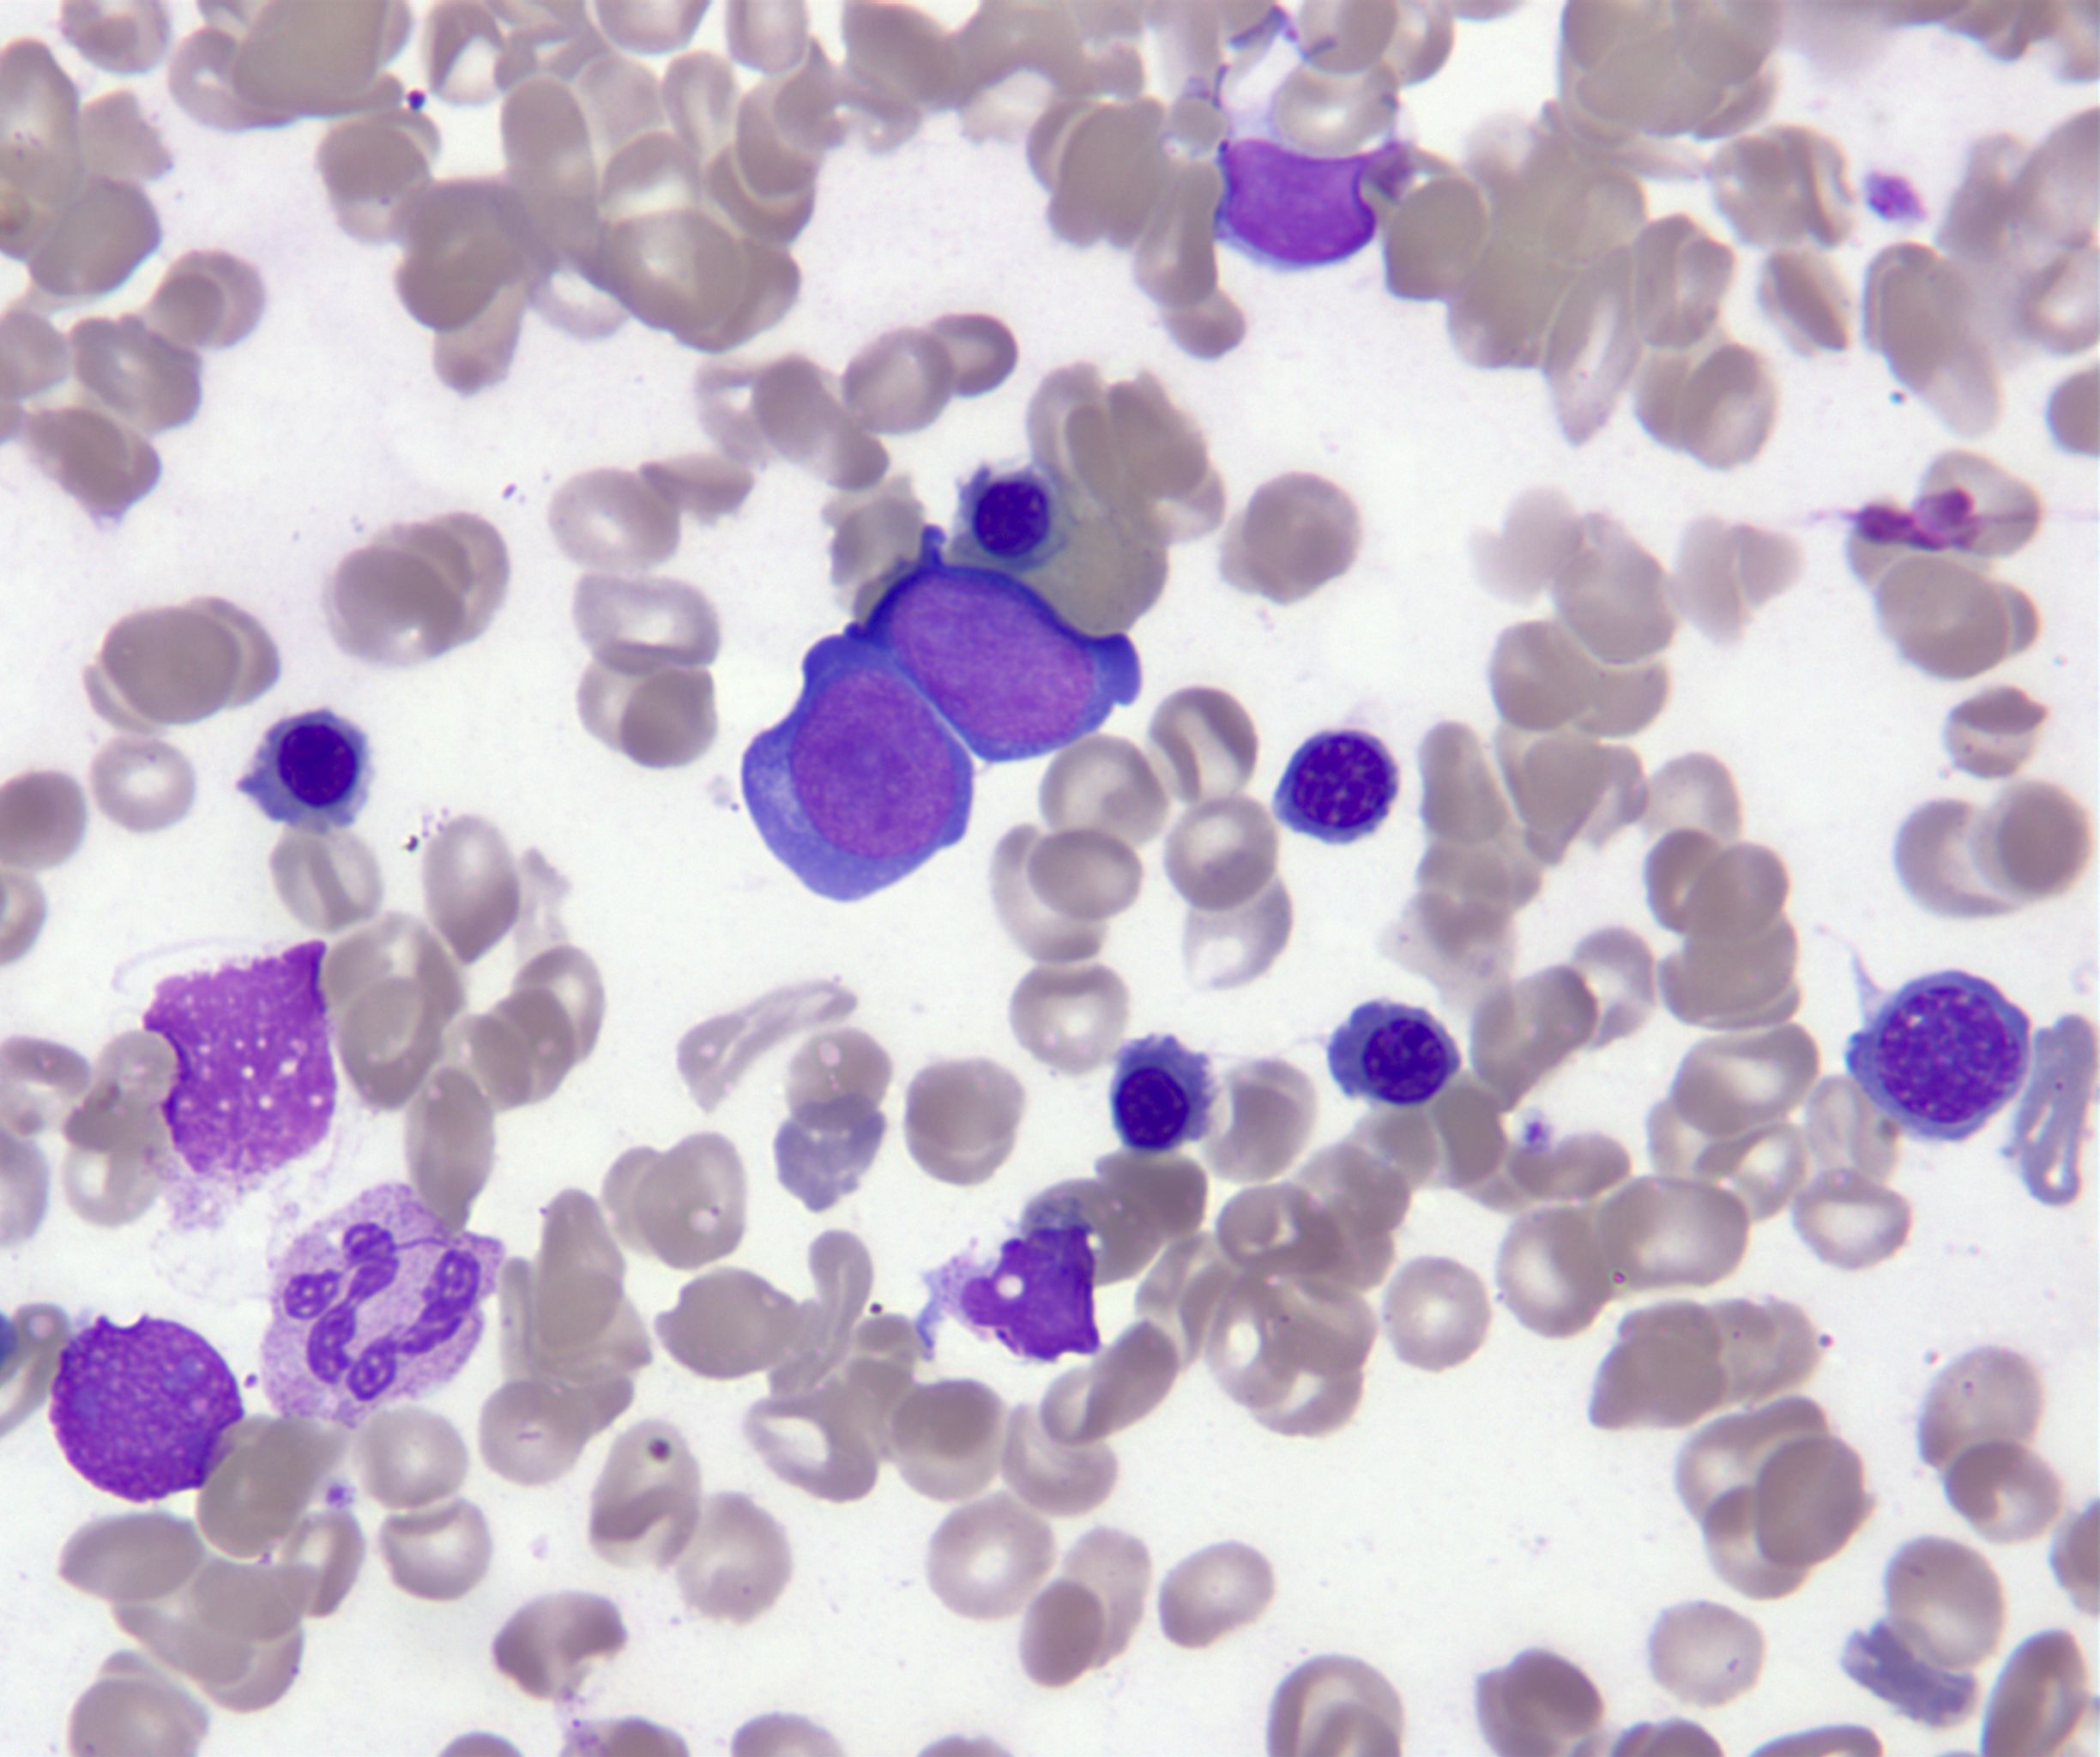21: (842, 527, 1146, 764), (740, 635, 973, 904)
23: (1842, 970, 2034, 1145)
24: (235, 708, 377, 836), (1327, 1002, 1462, 1108), (1275, 733, 1399, 844), (1106, 1033, 1223, 1150), (952, 461, 1073, 569)
32: (1210, 136, 1413, 265)
6: (258, 1183, 504, 1427)
x: (138, 942, 342, 1227), (45, 1312, 246, 1502), (923, 1223, 1108, 1363)
